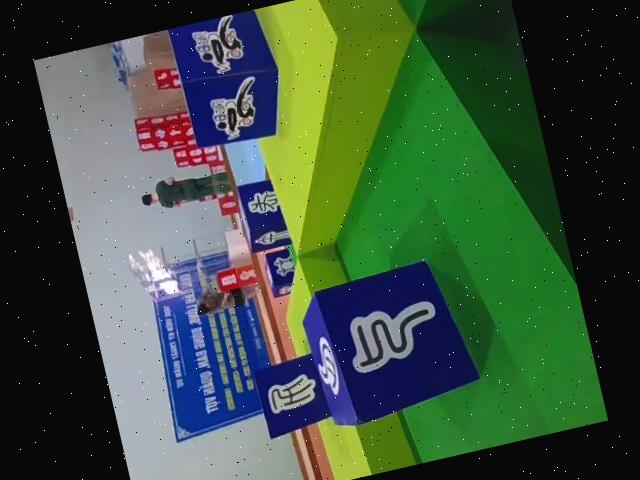R1 Blue: (166, 7, 292, 151)
R2 Fake Blue: (295, 254, 486, 433), (250, 351, 334, 439), (233, 178, 291, 254)
R2 Real Blue: (260, 248, 300, 300)
